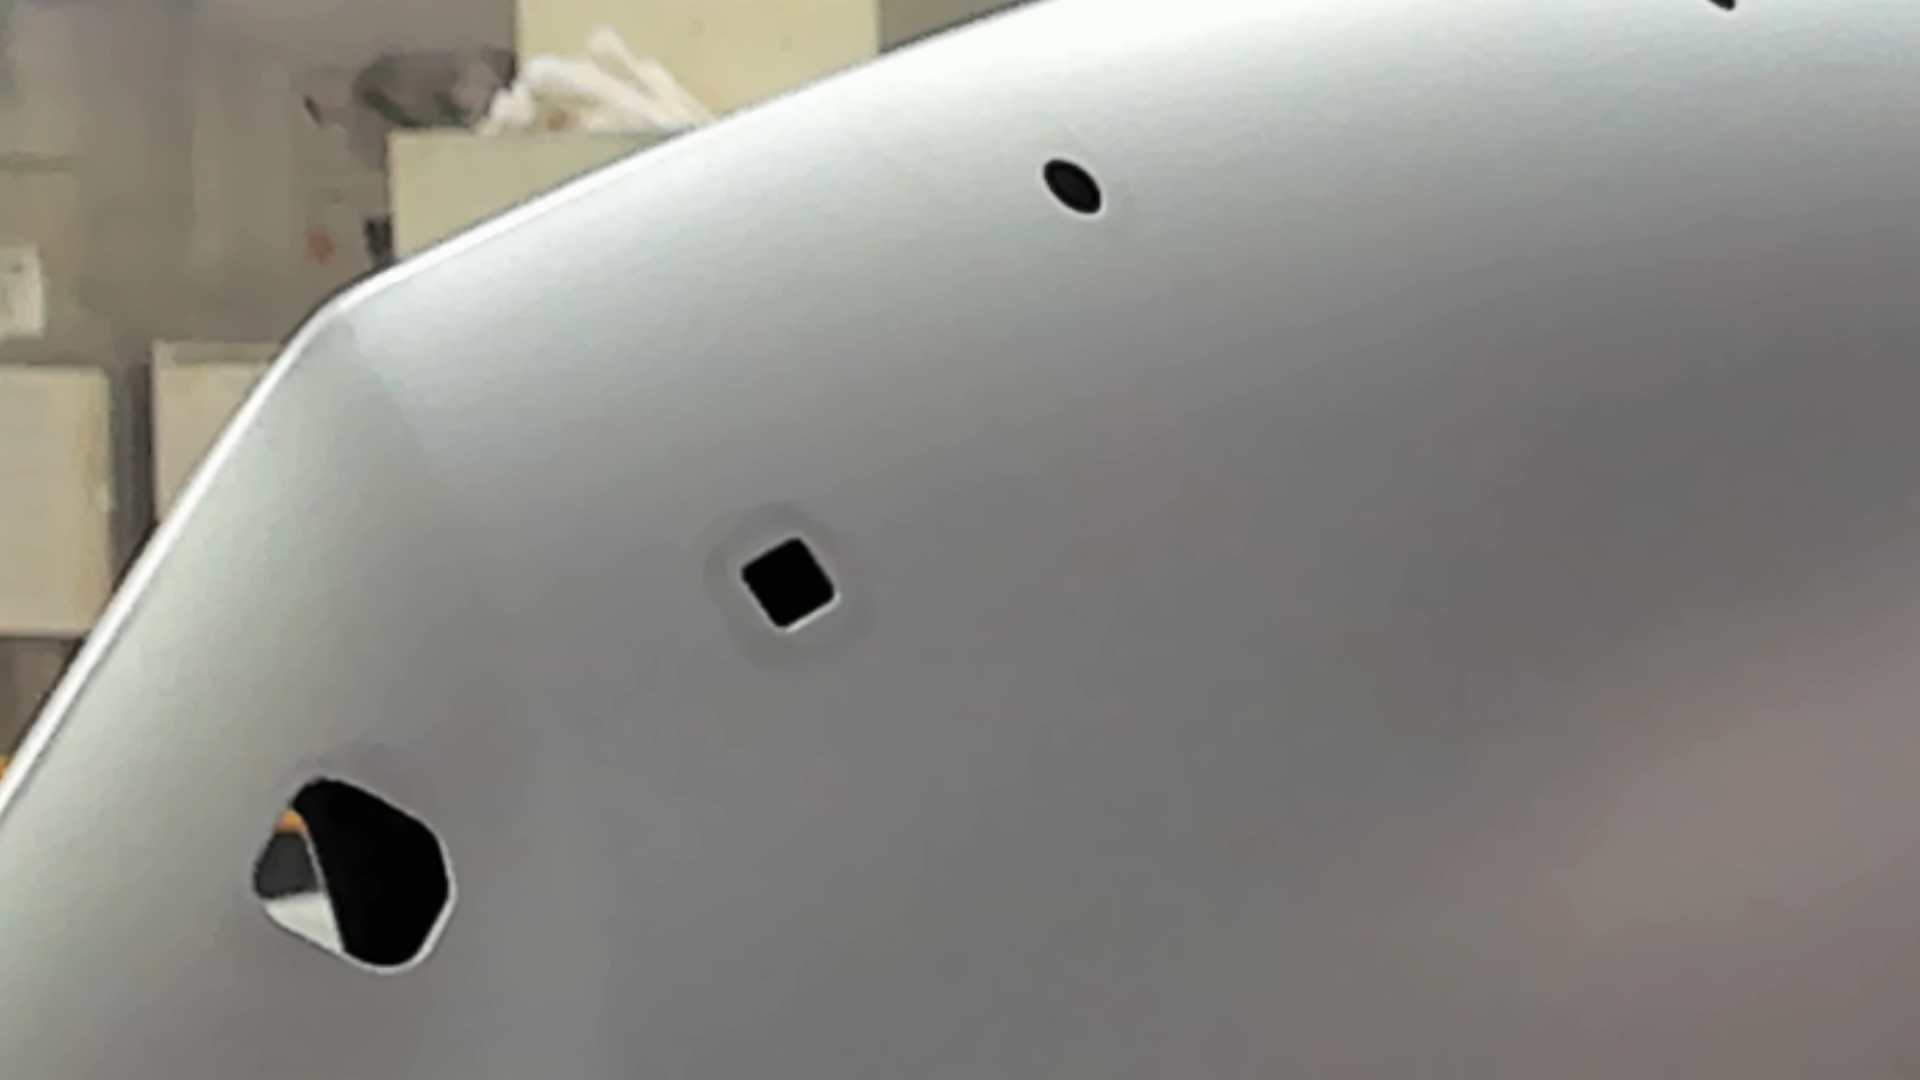chico: (1040, 154, 1106, 219), (1697, 1, 1745, 15)
grande: (245, 764, 462, 978)
mediano: (732, 531, 847, 638)
